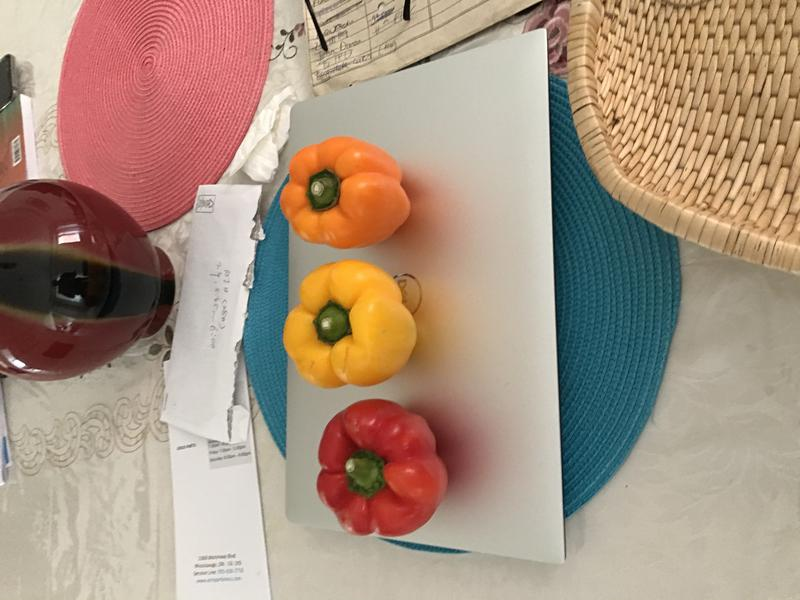orange_pepper: (275, 132, 419, 255)
red_pepper: (310, 394, 450, 544)
yellow_pepper: (273, 259, 426, 392)
